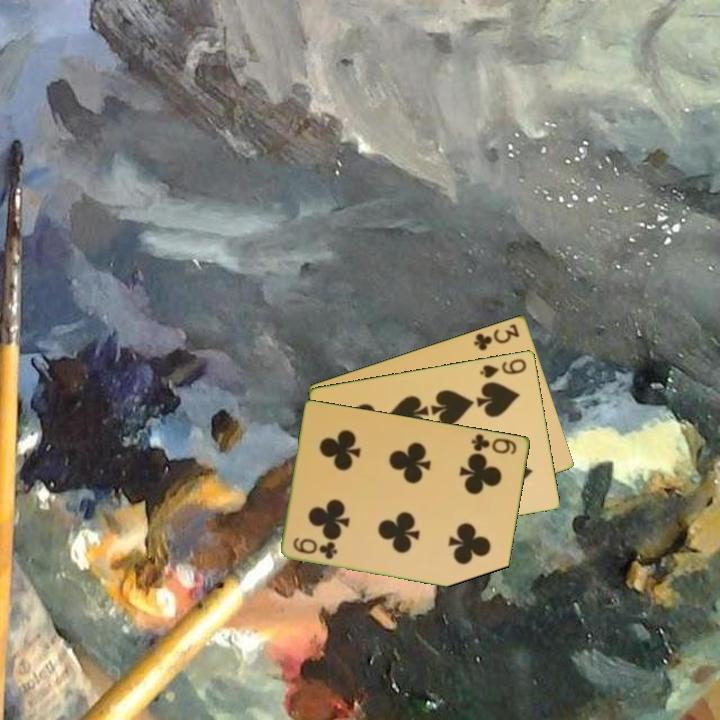3c: (470, 320, 522, 353)
6c: (290, 534, 341, 562), (468, 430, 520, 457)
9s: (476, 355, 530, 381)
